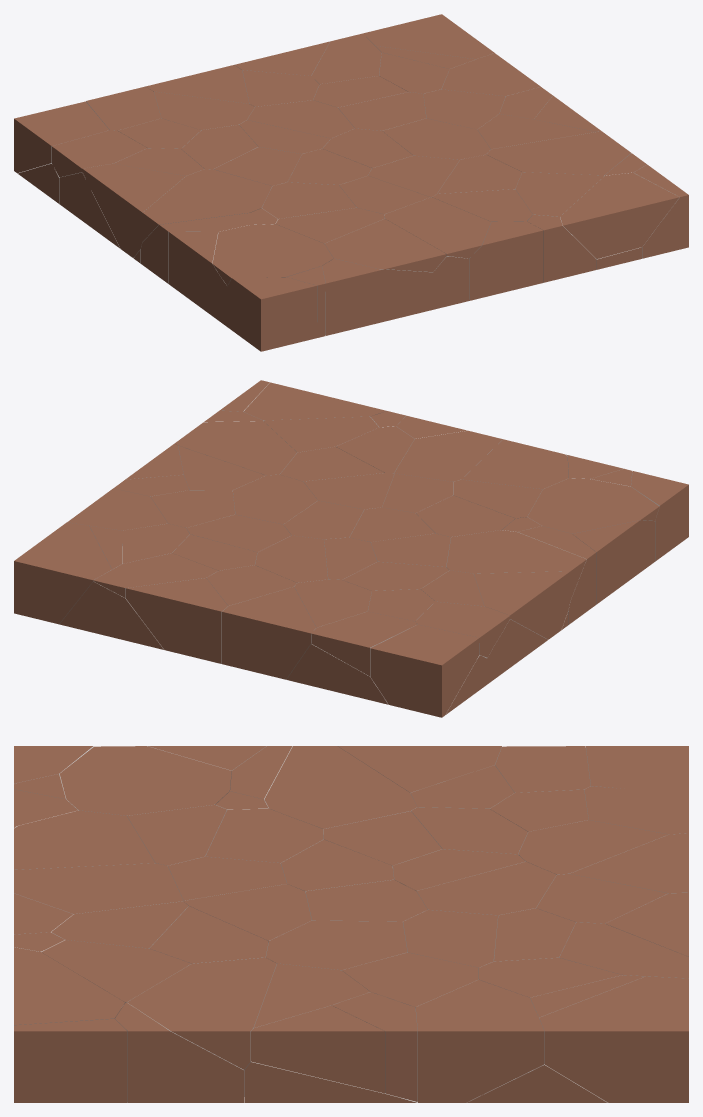
The model's file is Ceiling01_frac.fbx.
The picture shows the model from 3 angles, top to bottom: view 1: azimuth 30°, elevation 25°; view 2: azimuth 150°, elevation 25°; view 3: azimuth 270°, elevation 25°; orthographic projection. The views are drawn at different scales.
Parts seen in each view (by area): view 1: Ceiling01_cell.058, Ceiling01_cell, Ceiling01_cell.054, Ceiling01_cell.053, Ceiling01_cell.023, Ceiling01_cell.083, Ceiling01_cell.059, Ceiling01_cell.055, Ceiling01_cell.002, Ceiling01_cell.001, Ceiling01_cell.079, Ceiling01_cell.057 (+42 smaller); view 2: Ceiling01_cell.079, Ceiling01_cell.065, Ceiling01_cell.075, Ceiling01_cell.074, Ceiling01_cell.054, Ceiling01_cell.053, Ceiling01_cell.083, Ceiling01_cell.059, Ceiling01_cell.002, Ceiling01_cell.057, Ceiling01_cell.055, Ceiling01_cell.078 (+39 smaller); view 3: Ceiling01_cell.065, Ceiling01_cell.069, Ceiling01_cell.059, Ceiling01_cell.054, Ceiling01_cell.029, Ceiling01_cell.053, Ceiling01_cell.072, Ceiling01_cell.042, Ceiling01_cell.057, Ceiling01_cell.055, Ceiling01_cell.058, Ceiling01_cell.046 (+41 smaller).
Boxes of the visible parts, box(x1,y1,x2,y2) form: Ceiling01_cell.058: box(560, 172, 679, 258); Ceiling01_cell: box(227, 277, 317, 351); Ceiling01_cell.054: box(212, 224, 333, 286); Ceiling01_cell.053: box(142, 169, 272, 241); Ceiling01_cell.023: box(469, 221, 543, 300); Ceiling01_cell.083: box(82, 163, 185, 257); Ceiling01_cell.059: box(486, 131, 630, 175); Ceiling01_cell.055: box(324, 219, 446, 272); Ceiling01_cell.002: box(168, 231, 227, 326); Ceiling01_cell.001: box(322, 258, 381, 335); Ceiling01_cell.079: box(14, 101, 109, 173); Ceiling01_cell.057: box(384, 197, 490, 258); Ceiling01_cell.079: box(370, 624, 479, 717); Ceiling01_cell.065: box(14, 522, 111, 624); Ceiling01_cell.075: box(222, 586, 316, 679); Ceiling01_cell.074: box(125, 578, 227, 663); Ceiling01_cell.054: box(527, 478, 659, 533); Ceiling01_cell.053: box(446, 530, 586, 599); Ceiling01_cell.083: box(474, 571, 570, 639); Ceiling01_cell.059: box(174, 421, 297, 475); Ceiling01_cell.002: box(572, 520, 654, 604); Ceiling01_cell.057: box(394, 430, 502, 494); Ceiling01_cell.055: box(462, 439, 568, 489); Ceiling01_cell.078: box(311, 611, 417, 676); Ceiling01_cell.065: box(539, 976, 688, 1102); Ceiling01_cell.069: box(415, 979, 544, 1102); Ceiling01_cell.059: box(127, 957, 276, 1069); Ceiling01_cell.054: box(60, 746, 231, 815); Ceiling01_cell.029: box(14, 1018, 127, 1102); Ceiling01_cell.053: box(264, 746, 416, 834); Ceiling01_cell.072: box(251, 1005, 384, 1093); Ceiling01_cell.042: box(114, 1002, 243, 1102); Ceiling01_cell.057: box(14, 863, 183, 914); Ceiling01_cell.055: box(14, 810, 154, 869); Ceiling01_cell.058: box(14, 947, 124, 1025); Ceiling01_cell.046: box(266, 920, 407, 970).
Size of the model in its own units: 400 by 46.83 by 400.
